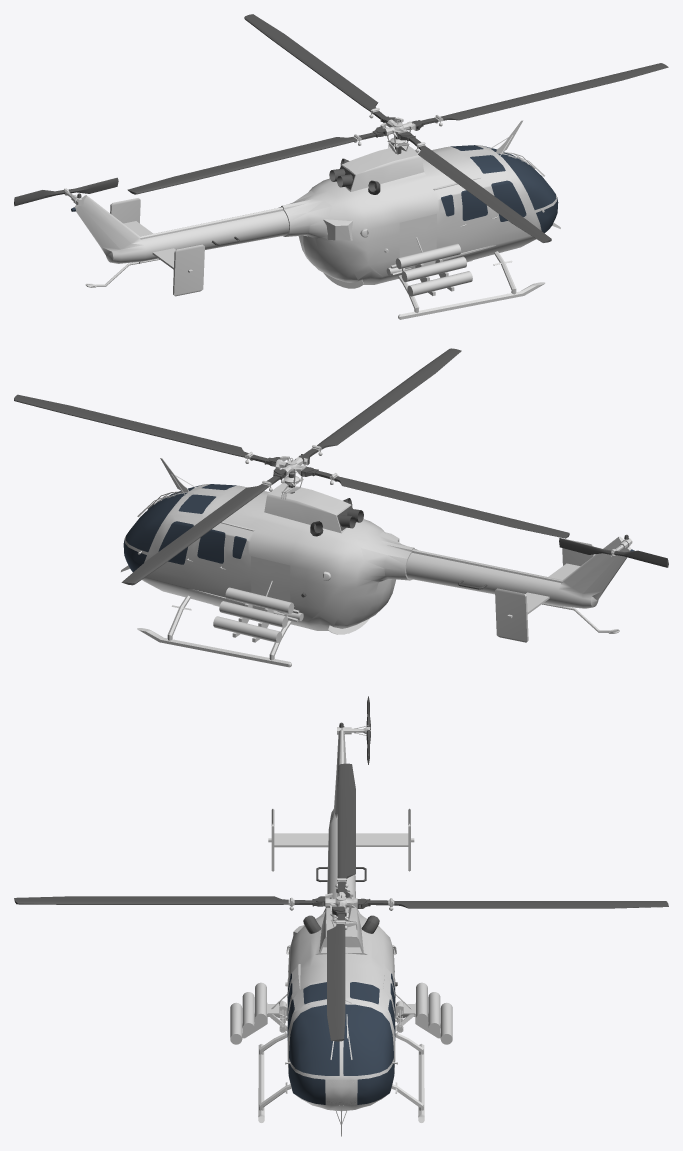
3 views of the same model, one above another, from view 1: azimuth 30°, elevation 25°; view 2: azimuth 150°, elevation 25°; view 3: azimuth 270°, elevation 25° (orthographic). The views are drawn at different scales.
Visible parts, largest first — view 1: body, spin (×2), glass, trim; view 2: body, spin (×2), glass, trim; view 3: body, spin, glass, trim.
Part boxes in pixels (<box>): body: <box>64,108,560,319</box>; spin (×2): <box>14,14,668,242</box>; glass: <box>71,145,558,232</box>; trim: <box>77,158,380,245</box>; body: <box>121,445,632,667</box>; spin (×2): <box>14,348,668,585</box>; glass: <box>123,484,634,571</box>; trim: <box>301,498,628,597</box>; body: <box>230,725,452,1136</box>; spin: <box>14,763,668,1041</box>; glass: <box>287,973,395,1104</box>; trim: <box>288,722,397,986</box>.
Bounding box in the file's own units: 2.2 × 0.5752 × 1.84.
